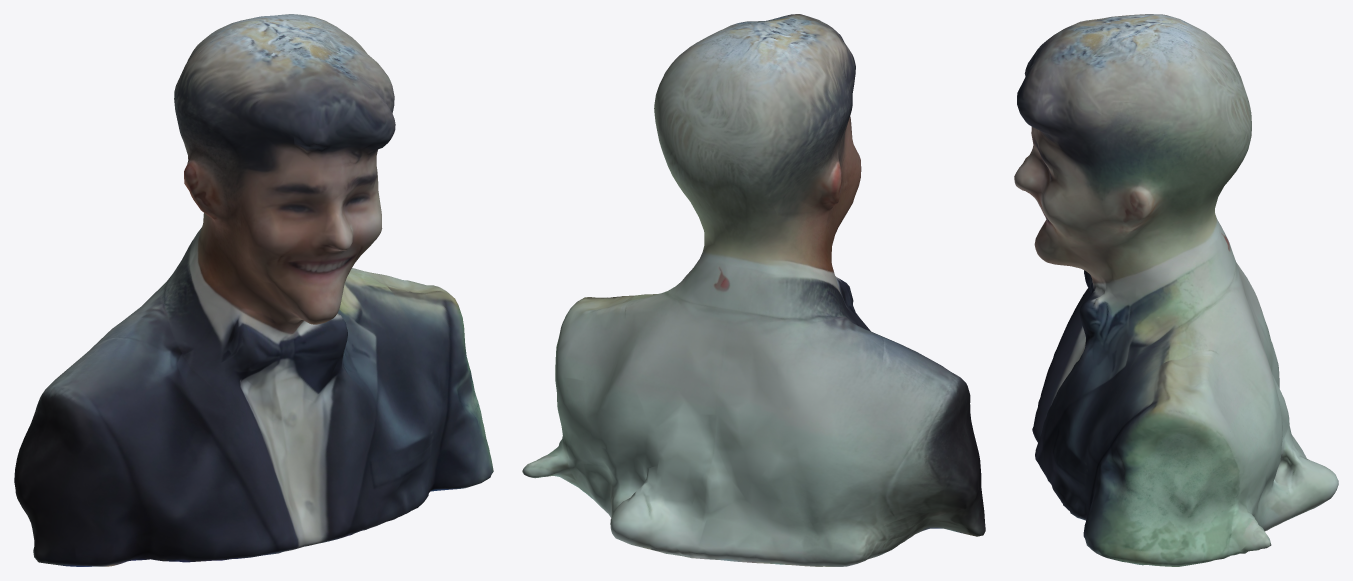
Rendered from profile3d.glb.
3 views of the same model, side by side, from view 1: azimuth 30°, elevation 25°; view 2: azimuth 150°, elevation 25°; view 3: azimuth 270°, elevation 25° (orthographic). The views are drawn at different scales.
Size of the model in its own units: 1.09 by 1.2 by 0.7409.
Materials: 1 (1 with a texture image).
